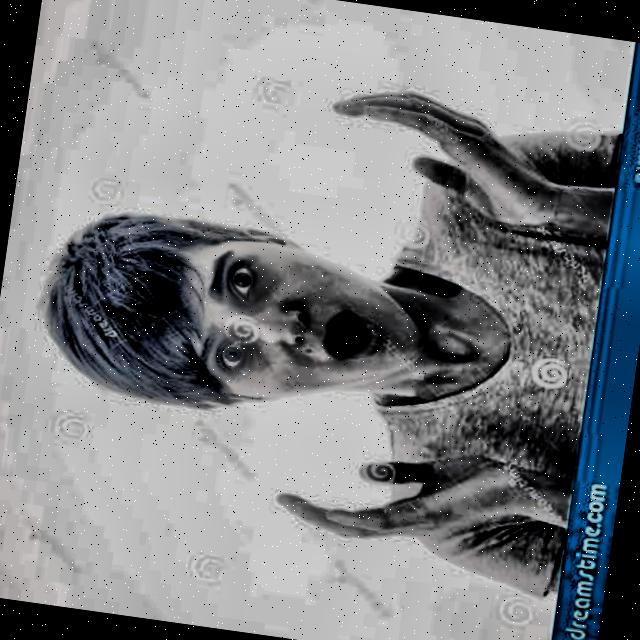surprised: (20, 194, 427, 436)
